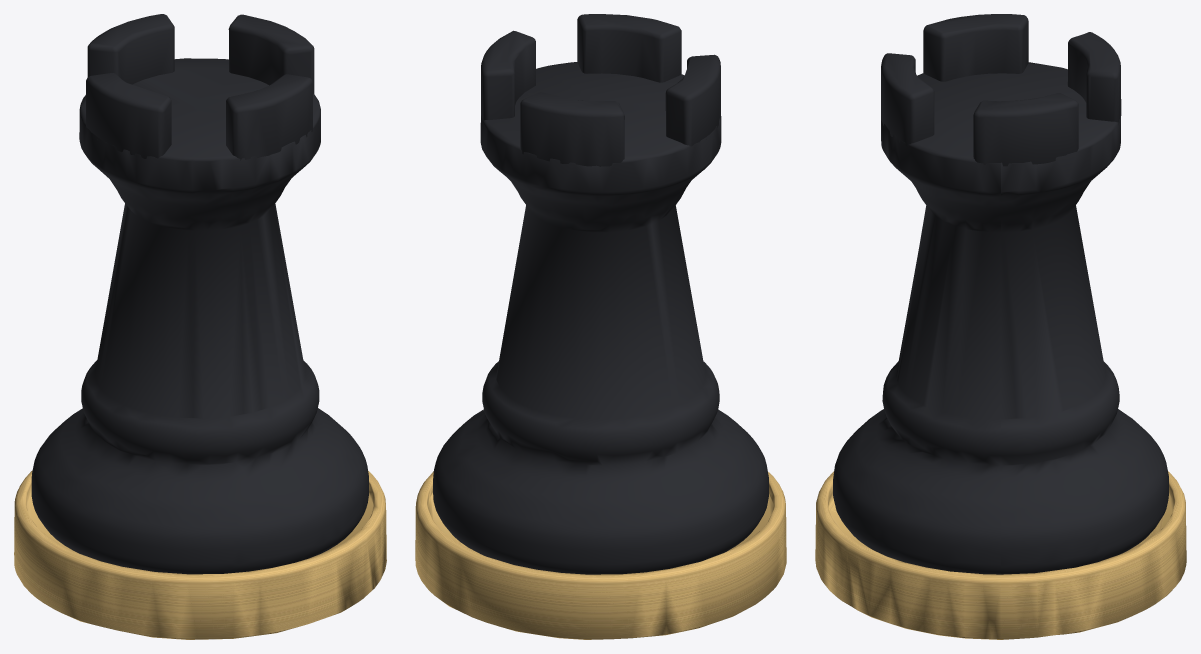
The model's file is rook-black.glb.
The picture shows the model from 3 angles, left to right: view 1: azimuth 30°, elevation 25°; view 2: azimuth 150°, elevation 25°; view 3: azimuth 270°, elevation 25°; orthographic projection.
Parts seen in each view (by area): view 1: Aurum Noir – Rook; view 2: Aurum Noir – Rook; view 3: Aurum Noir – Rook.
Boxes of the visible parts, <box> form: Aurum Noir – Rook: <box>14,14,386,639</box>; Aurum Noir – Rook: <box>415,14,786,639</box>; Aurum Noir – Rook: <box>815,14,1186,639</box>.
Size of the model in its own units: 0.7136 by 1.06 by 0.714.
Materials: 2 (1 with a texture image).
